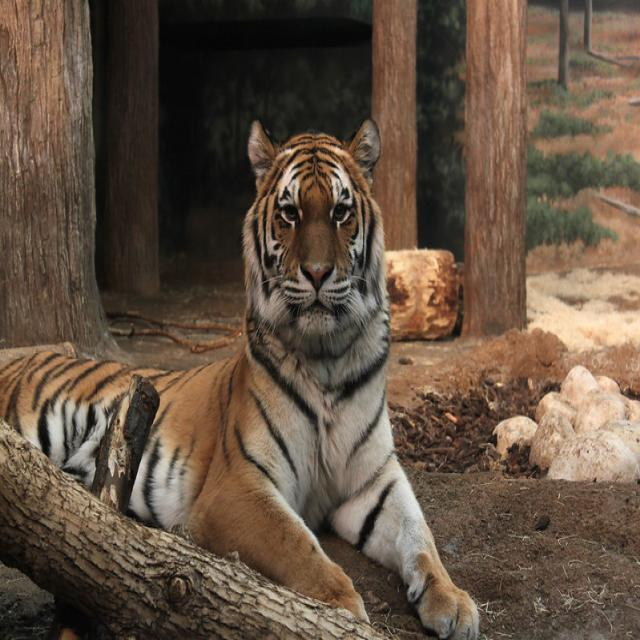Tiger: (79, 110, 465, 603)
